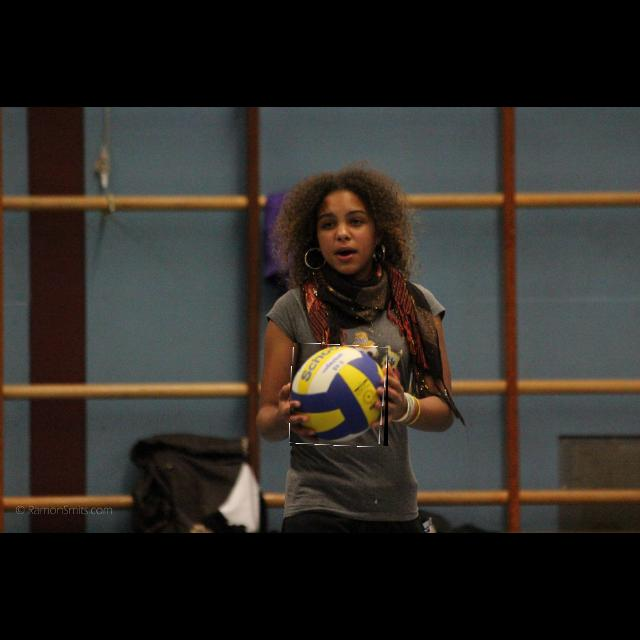Football: (290, 344, 388, 446)
